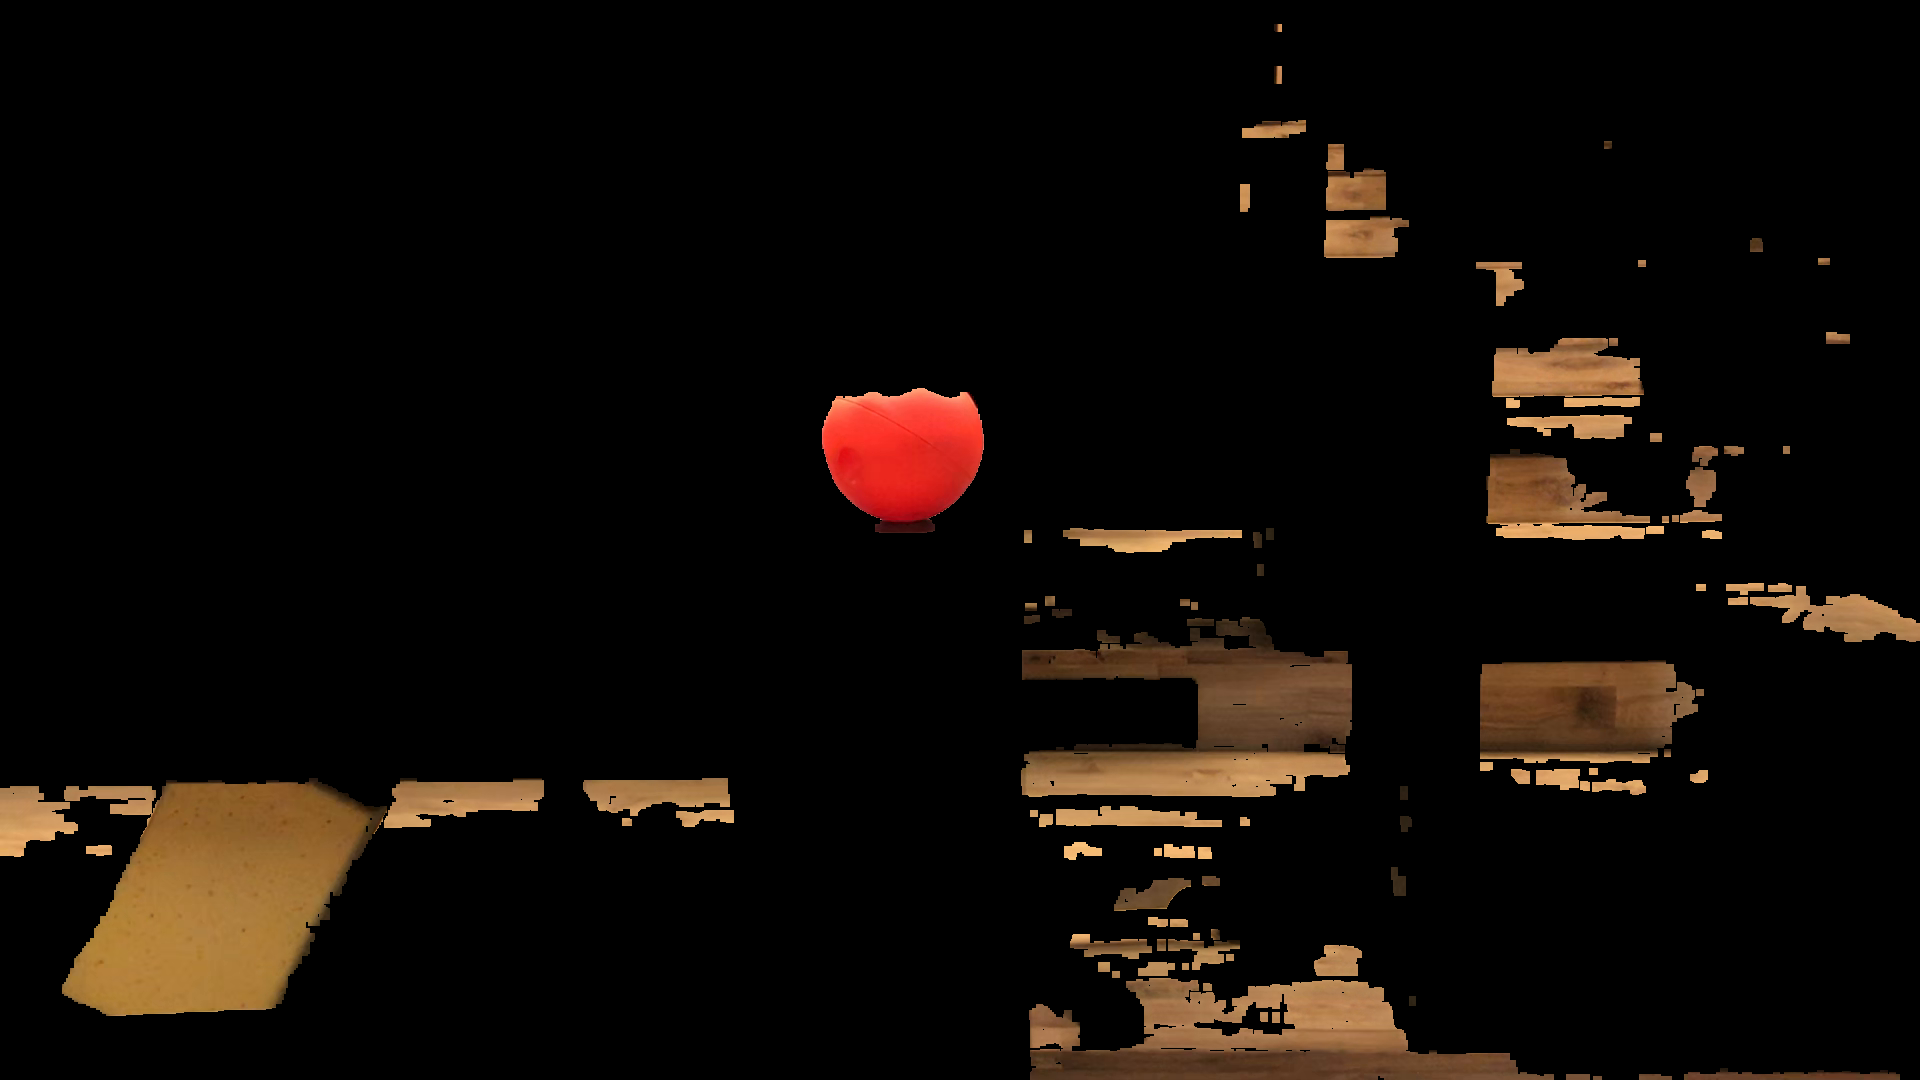Ball: (823, 357, 984, 524)
